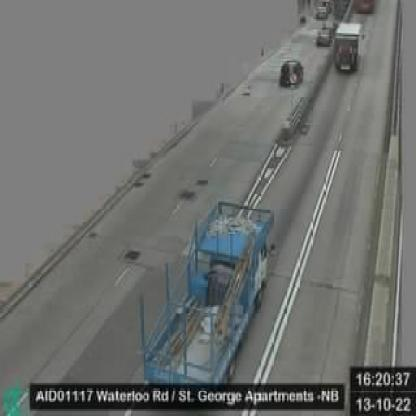Car: (281, 58, 305, 89), (317, 25, 335, 47)
Truck: (141, 200, 275, 385), (334, 21, 364, 74)
